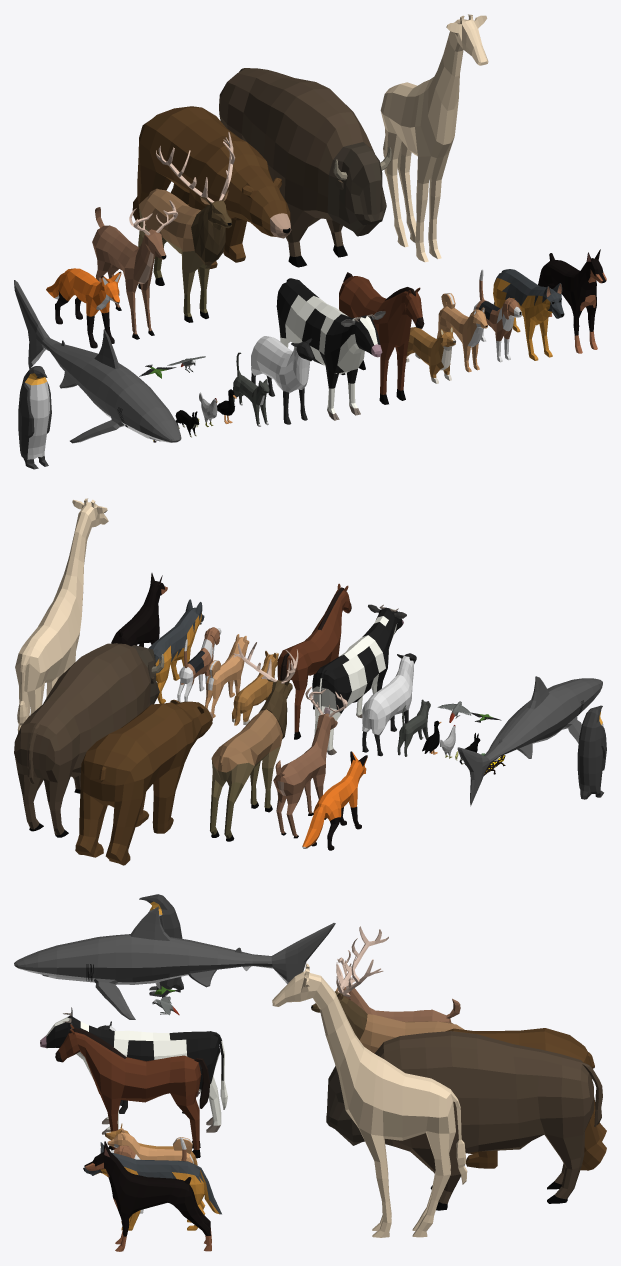
3 renders of one model, top to bottom at view 1: azimuth 30°, elevation 25°; view 2: azimuth 150°, elevation 25°; view 3: azimuth 270°, elevation 25°, orthographic. The views are drawn at different scales.
Visible parts, largest first — view 1: 04bizonFinal, 08bearFinal, 18girafFinal, 07sharkFinal, 09deerFinal, 13cowFinal, 17horseFinal, 05deerFinal, 10sheepFinal, 25dogFinal, 12dogFinal, 01foxFinal (+5 smaller); view 2: 04bizonFinal, 08bearFinal, 18girafFinal, 09deerFinal, 07sharkFinal, 13cowFinal, 05deerFinal, 17horseFinal, 10sheepFinal, 01foxFinal, 06penguinFinal, 25dogFinal (+5 smaller); view 3: 04bizonFinal, 18girafFinal, 07sharkFinal, 17horseFinal, 13cowFinal, 12dogFinal, 08bearFinal, 09deerFinal, 25dogFinal, 05deerFinal, 19dogFinal, 06penguinFinal.
Boxes of the visible parts, left/top/right/bottom form: 04bizonFinal: left=219, top=68, right=391, bottom=267; 08bearFinal: left=132, top=106, right=291, bottom=268; 18girafFinal: left=380, top=14, right=488, bottom=262; 07sharkFinal: left=14, top=280, right=181, bottom=443; 09deerFinal: left=138, top=132, right=235, bottom=322; 13cowFinal: left=276, top=278, right=385, bottom=420; 17horseFinal: left=339, top=272, right=424, bottom=404; 05deerFinal: left=92, top=200, right=177, bottom=339; 10sheepFinal: left=251, top=336, right=313, bottom=424; 25dogFinal: left=493, top=269, right=564, bottom=360; 12dogFinal: left=538, top=249, right=606, bottom=353; 01foxFinal: left=46, top=268, right=121, bottom=348; 04bizonFinal: left=14, top=643, right=164, bottom=837; 08bearFinal: left=75, top=699, right=212, bottom=865; 18girafFinal: left=15, top=498, right=108, bottom=732; 09deerFinal: left=210, top=642, right=298, bottom=841; 07sharkFinal: left=457, top=676, right=602, bottom=806; 13cowFinal: left=312, top=604, right=406, bottom=755; 05deerFinal: left=273, top=687, right=347, bottom=838; 17horseFinal: left=277, top=583, right=351, bottom=739; 10sheepFinal: left=362, top=653, right=416, bottom=756; 01foxFinal: left=302, top=751, right=367, bottom=850; 06penguinFinal: left=577, top=705, right=606, bottom=799; 25dogFinal: left=148, top=599, right=204, bottom=703; 04bizonFinal: left=326, top=1031, right=602, bottom=1210; 18girafFinal: left=272, top=963, right=467, bottom=1237; 07sharkFinal: left=14, top=906, right=335, bottom=1019; 17horseFinal: left=55, top=1024, right=210, bottom=1158; 13cowFinal: left=40, top=1007, right=227, bottom=1134; 12dogFinal: left=84, top=1141, right=211, bottom=1251; 08bearFinal: left=446, top=1028, right=606, bottom=1170; 09deerFinal: left=311, top=926, right=464, bottom=1053; 25dogFinal: left=83, top=1142, right=221, bottom=1230; 05deerFinal: left=337, top=950, right=460, bottom=1022; 19dogFinal: left=107, top=1128, right=193, bottom=1163; 06penguinFinal: left=139, top=894, right=183, bottom=996.
Size of the model in its own units: 8.53 by 4.01 by 8.
25 materials, 25 textured.
